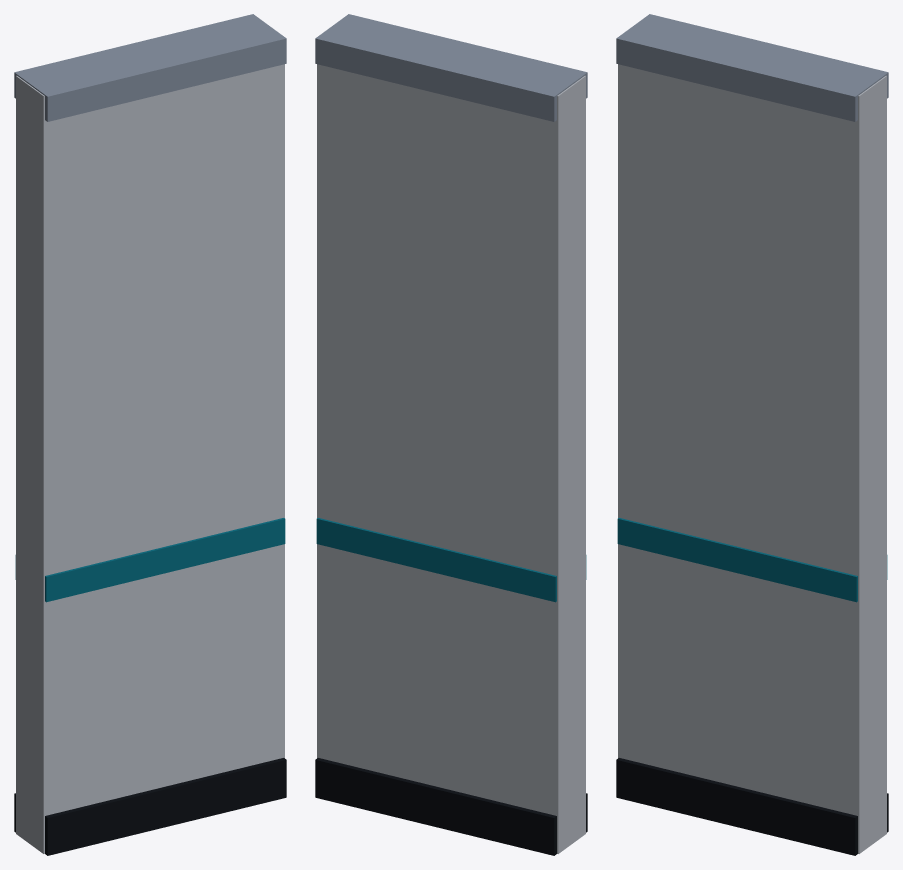
Rendered from SM_Wall_1x3.glb.
The picture shows the model from 3 angles, left to right: view 1: azimuth 30°, elevation 25°; view 2: azimuth 150°, elevation 25°; view 3: azimuth 330°, elevation 25°; orthographic projection.
Visible parts, largest first — view 1: SM_Wall_1x3-col; view 2: SM_Wall_1x3-col; view 3: SM_Wall_1x3-col.
Part boxes in pixels (x1,y1,x2,y2): SM_Wall_1x3-col: (14, 14, 286, 855); SM_Wall_1x3-col: (315, 14, 587, 855); SM_Wall_1x3-col: (616, 14, 888, 855).
Size of the model in its own units: 1 by 3 by 0.24.
